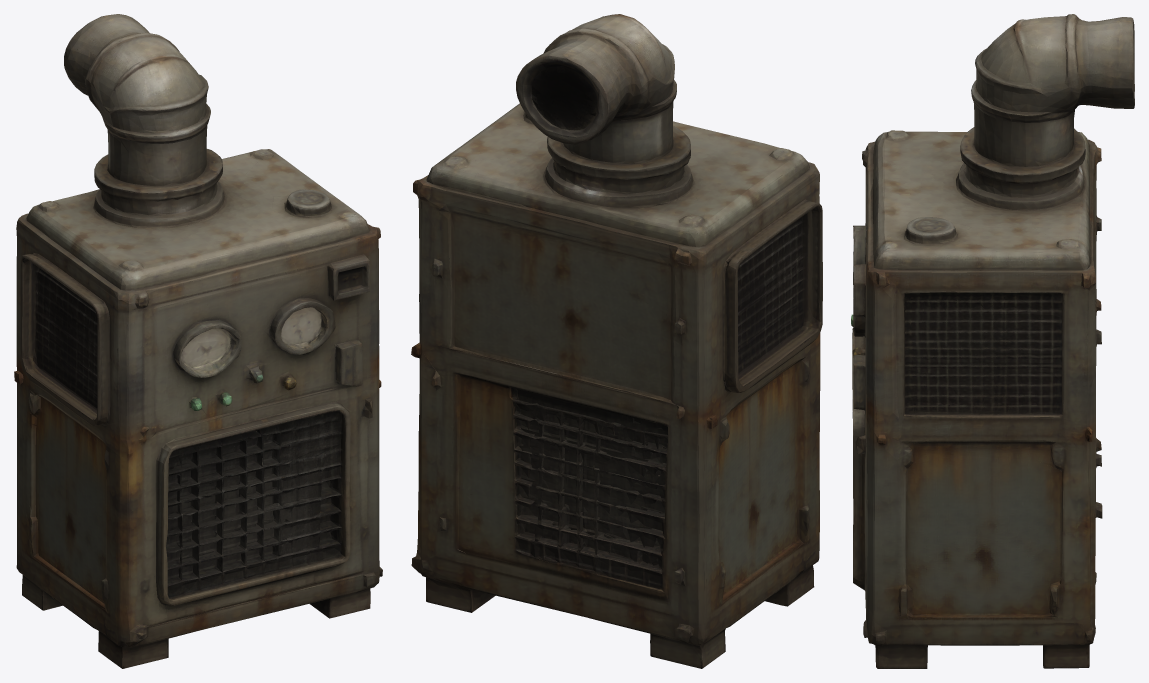
The picture shows the model from 3 angles, left to right: view 1: azimuth 30°, elevation 25°; view 2: azimuth 150°, elevation 25°; view 3: azimuth 270°, elevation 25°; orthographic projection. The views are drawn at different scales.
Parts seen in each view (by area): view 1: geometry_0; view 2: geometry_0; view 3: geometry_0.
Part boxes in pixels (x1,y1,x2,y2): geometry_0: (14, 14, 382, 668); geometry_0: (411, 14, 822, 668); geometry_0: (851, 14, 1134, 668).
Bounding box in the file's own units: 0.5356 × 1 × 0.4495.
Materials: 1 (1 with a texture image).
